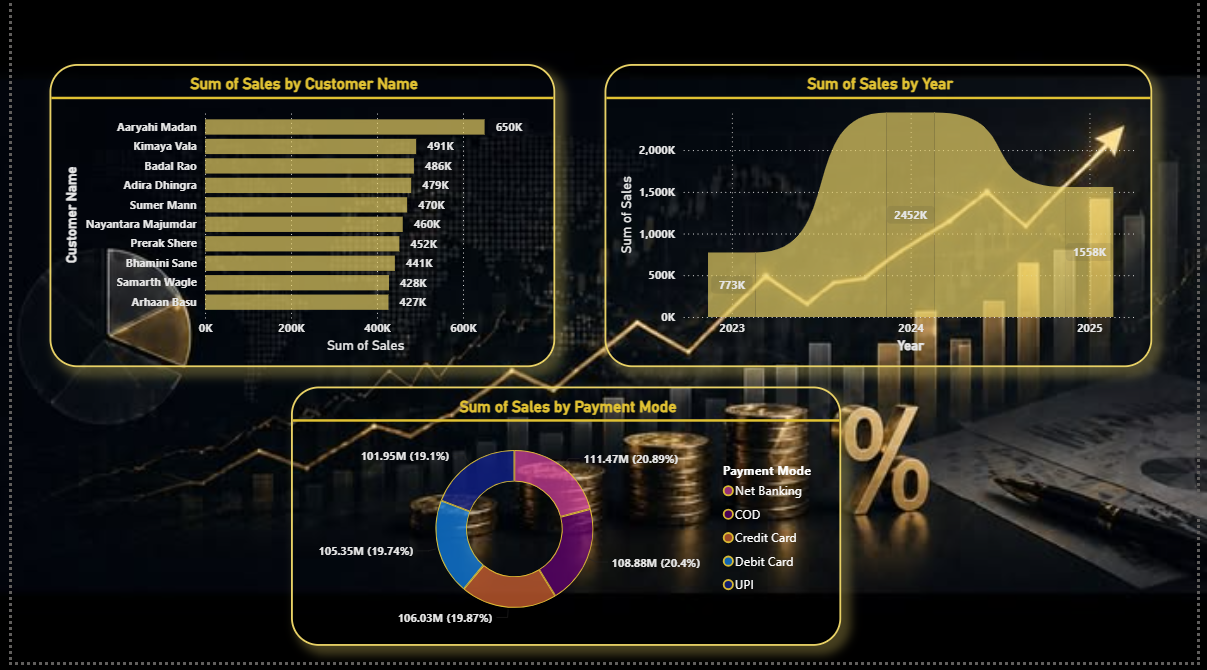

What the dashboard file says about the page in this screenshot:
{"tool":"powerbi","page":{"name":"Page 3","canvas":[1280,720],"ordinal":2},"visuals":[{"type":"clusteredBarChart","fields":{"Category":["Ecommerce_Sales_Data_2024_2025.Customer Name"],"Y":["Sum(Ecommerce_Sales_Data_2024_2025.Sales)"]},"box":[38.9,74.5,545.7,327.1],"z":0},{"type":"donutChart","fields":{"Y":["Sum(Ecommerce_Sales_Data_2024_2025.Sales)"],"Category":["Ecommerce_Sales_Data_2024_2025.Payment Mode"]},"box":[341.7,419.4,594.3,280.1],"z":1000},{"type":"ribbonChart","fields":{"Category":["Ecommerce_Sales_Data_2024_2025.Order Date.Variation.Date Hierarchy.Year","Ecommerce_Sales_Data_2024_2025.Order Date.Variation.Date Hierarchy.Month"],"Y":["Sum(Ecommerce_Sales_Data_2024_2025.Sales)"]},"box":[639.6,74.5,591,327.1],"z":2000}]}

Visuals, with their boxes in screenshot pixels (x1, y1, x2, y2), scaled from the page's 1280x720 canvas onto the 1207x670 screenshot:
clusteredBarChart - Ecommerce_Sales_Data_2024_2025.Customer Name x Sum(Ecommerce_Sales_Data_2024_2025.Sales): (37, 69, 551, 374)
donutChart - Sum(Ecommerce_Sales_Data_2024_2025.Sales) x Ecommerce_Sales_Data_2024_2025.Payment Mode: (322, 390, 883, 651)
ribbonChart - Ecommerce_Sales_Data_2024_2025.Order Date.Variation.Date Hierarchy.Year x Ecommerce_Sales_Data_2024_2025.Order Date.Variation.Date Hierarchy.Month: (603, 69, 1160, 374)
